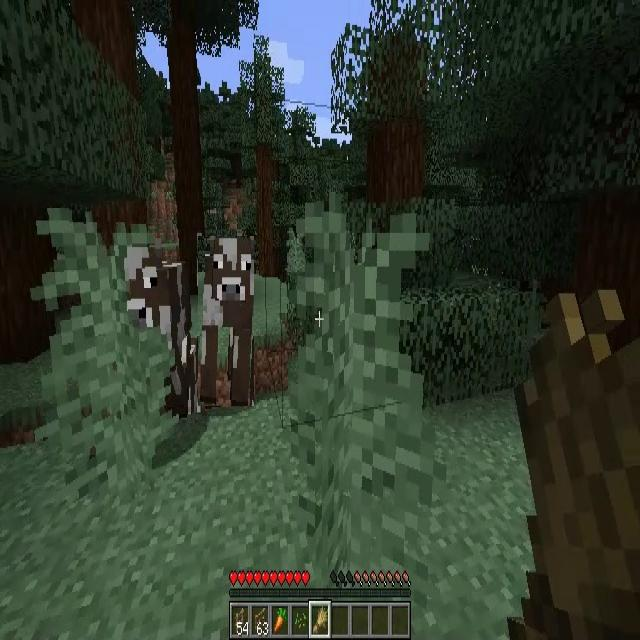cow: (116, 252, 196, 412), (198, 236, 254, 406)
